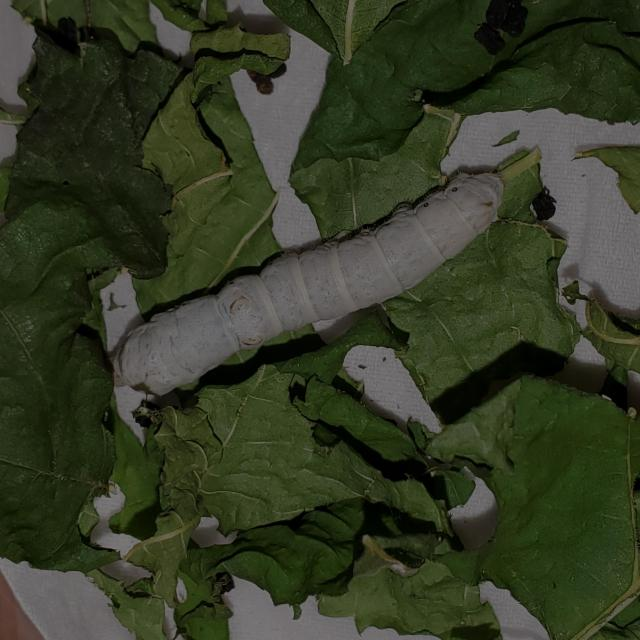Healthy: (100, 132, 565, 446)
